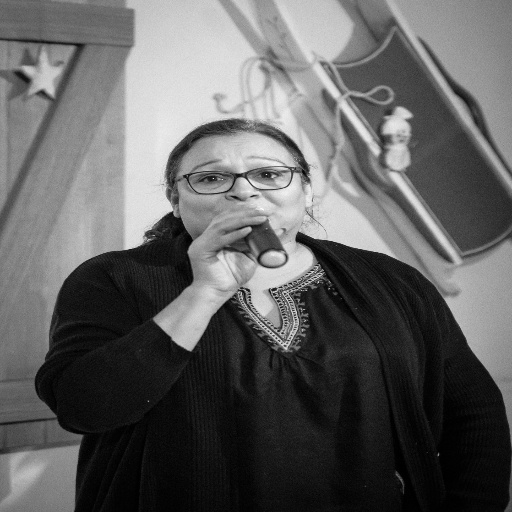hand: (184, 200, 273, 301)
